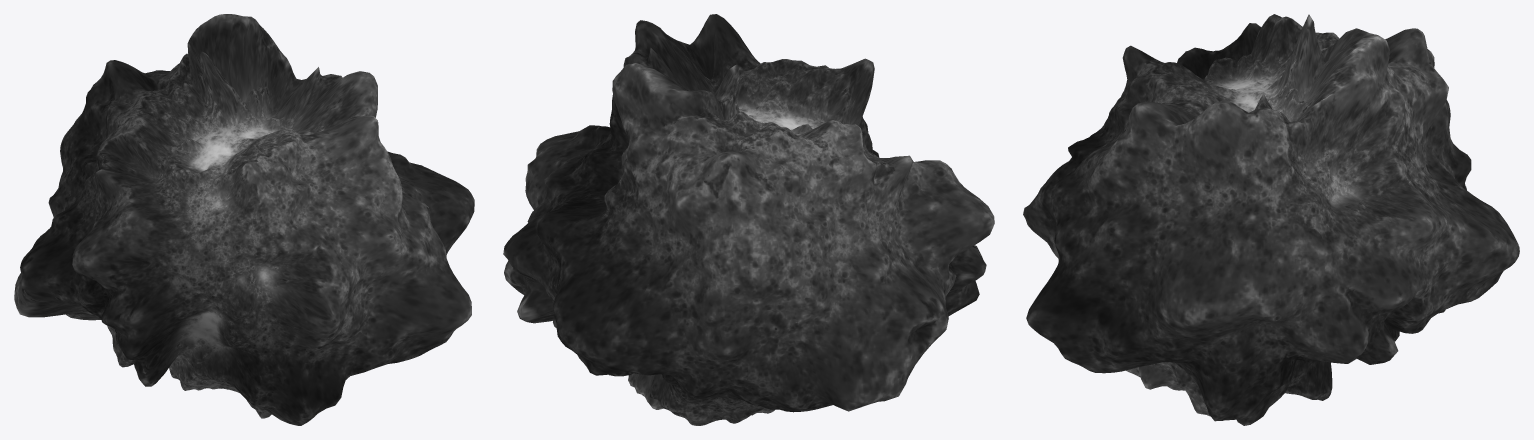
The model's file is Asteroid_01_High.FBX.
The picture shows the model from 3 angles, left to right: view 1: azimuth 30°, elevation 25°; view 2: azimuth 150°, elevation 25°; view 3: azimuth 270°, elevation 25°; orthographic projection. The views are drawn at different scales.
Parts seen in each view (by area): view 1: Asteroid_01_High; view 2: Asteroid_01_High; view 3: Asteroid_01_High.
Part boxes in pixels (x1,y1,x2,y2): Asteroid_01_High: [14, 14, 474, 425]; Asteroid_01_High: [503, 14, 994, 425]; Asteroid_01_High: [1023, 14, 1519, 425].
Bounding box in the file's own units: 8.89 × 7.3 × 8.5.
